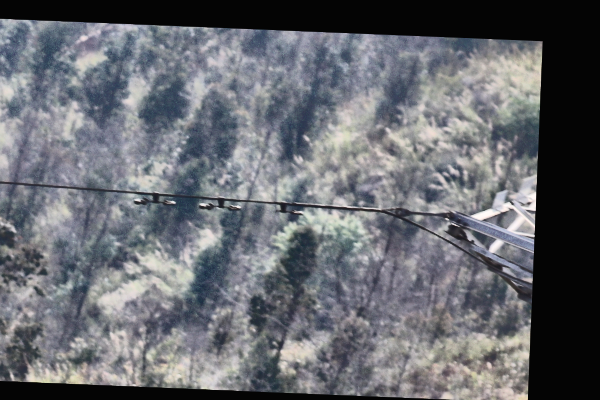damper: (131, 189, 179, 207), (197, 194, 242, 212)
damper_defect: (273, 199, 304, 218)
